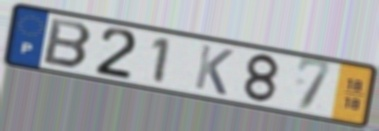1: (148, 37, 172, 86)
2: (91, 26, 140, 83)
7: (290, 56, 334, 116)
8: (241, 52, 285, 105)
B: (40, 15, 95, 71)
K: (192, 42, 236, 98)
